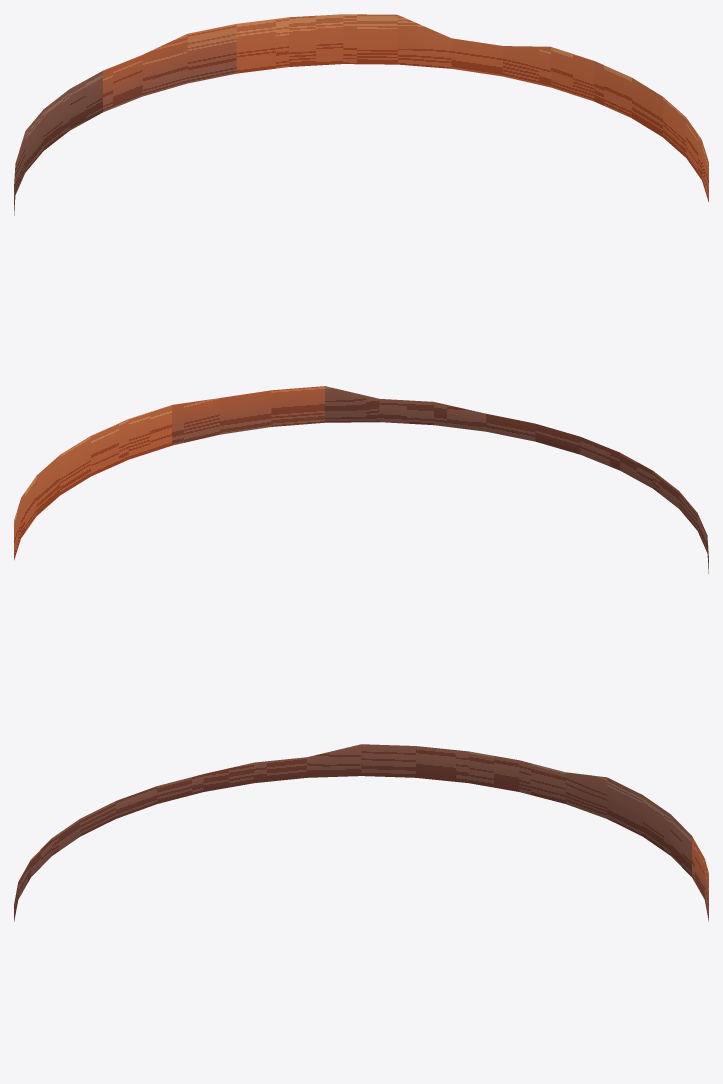
File: wsky.mesas__near.glb
3 views of the same model, one above another, from view 1: azimuth 30°, elevation 25°; view 2: azimuth 150°, elevation 25°; view 3: azimuth 270°, elevation 25° (orthographic).
Parts seen in each view (by area): view 1: kit_shell_mesas; view 2: kit_shell_mesas; view 3: kit_shell_mesas.
Part boxes in pixels (left/top/right/bottom): kit_shell_mesas: left=14, top=14, right=708, bottom=215; kit_shell_mesas: left=14, top=386, right=708, bottom=573; kit_shell_mesas: left=14, top=744, right=708, bottom=921.
Size of the model in its own units: 180 by 14.21 by 180.
Materials: 1 (1 with a texture image).
